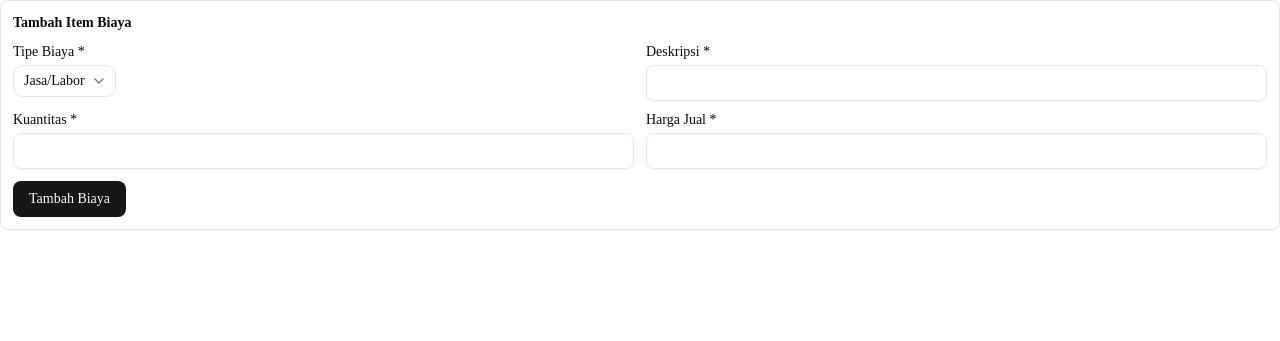
Test case: AddJobCostForm › requires purchase price for spare_part before submitting
Click the dropdown named "tipe biaya". click: click(64, 81)
box: x1=13 y1=65 x2=116 y2=97
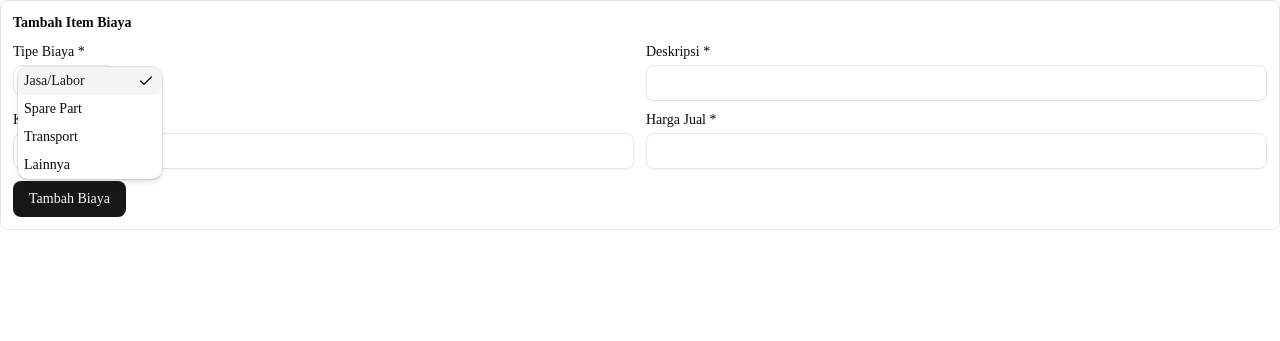
Click the option "Spare Part". click: click(53, 108)
box: x1=24 y1=101 x2=82 y2=116
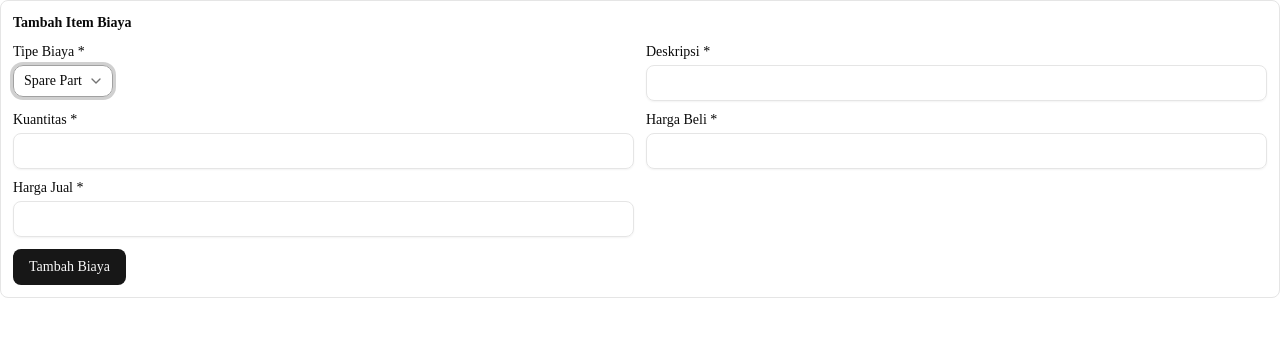
Type "Bearing spindle" into the field labelled "Deskripsi *". click: (956, 83)
box: x1=646 y1=65 x2=1267 y2=101
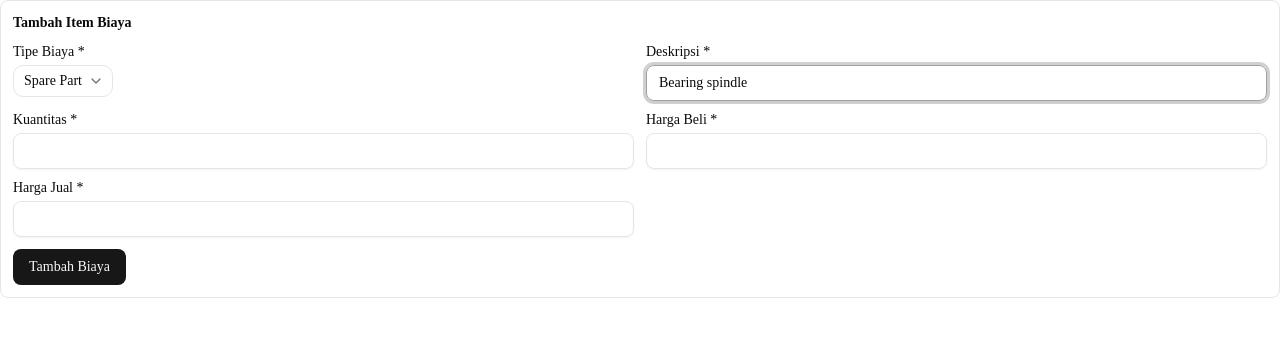
Type "2" into the number field labelled "Kuantitas *". click: (324, 151)
box: x1=13 y1=133 x2=634 y2=169
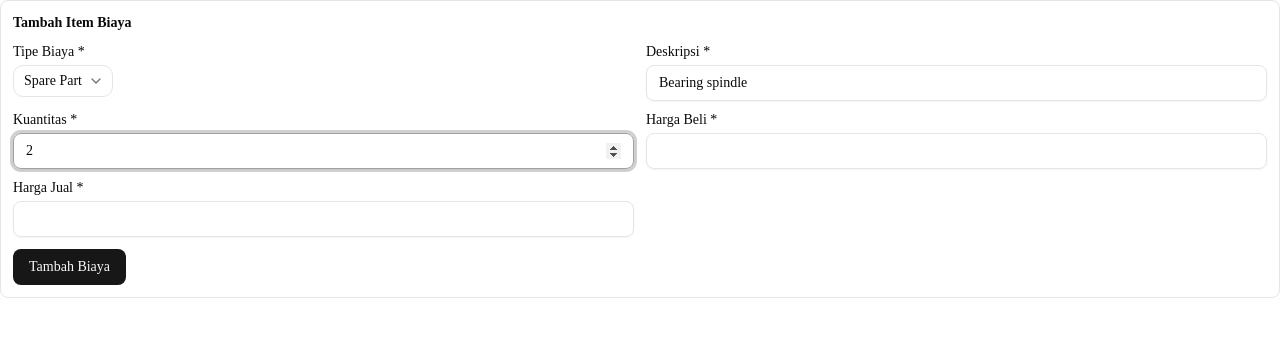
Type "150000" into the number field labelled "Harga Jual *". click: (324, 219)
box: x1=13 y1=201 x2=634 y2=237
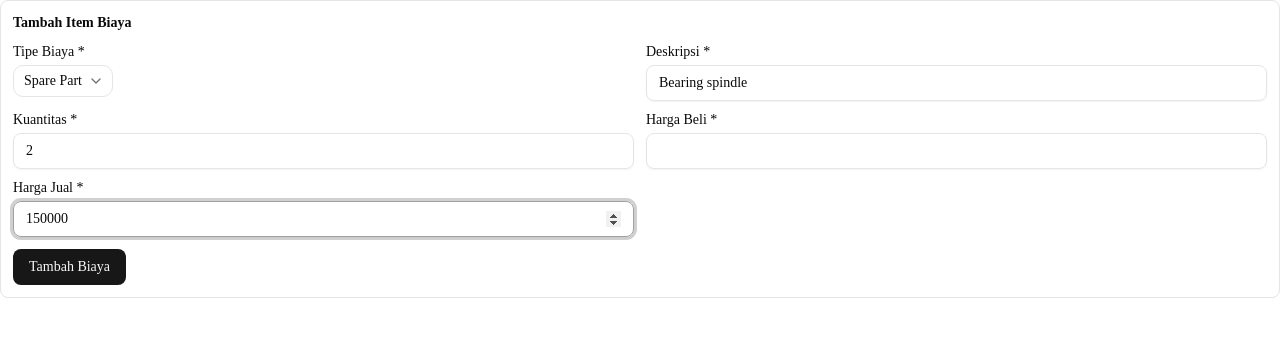
Click the button "Tambah Biaya". click: click(70, 267)
box: x1=13 y1=249 x2=126 y2=285
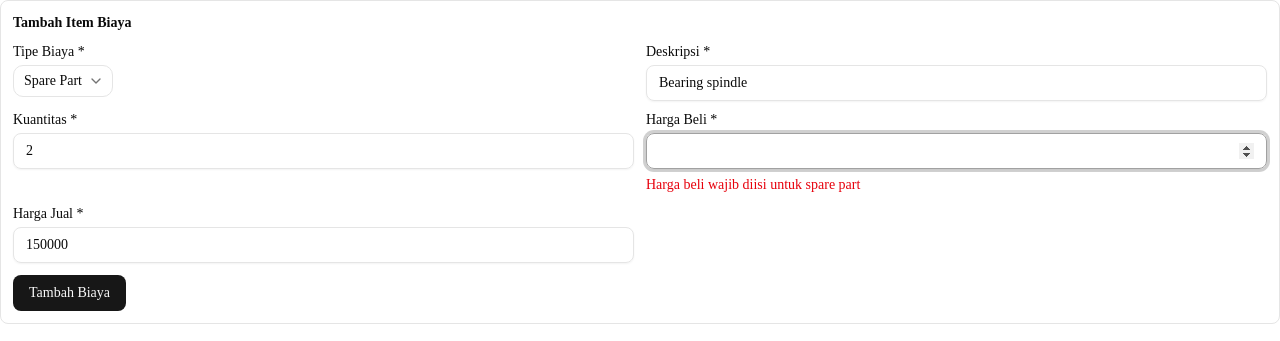
Now the text "Harga beli wajib diisi untuk spare part" is shown, box x1=646 y1=177 x2=860 y2=192
